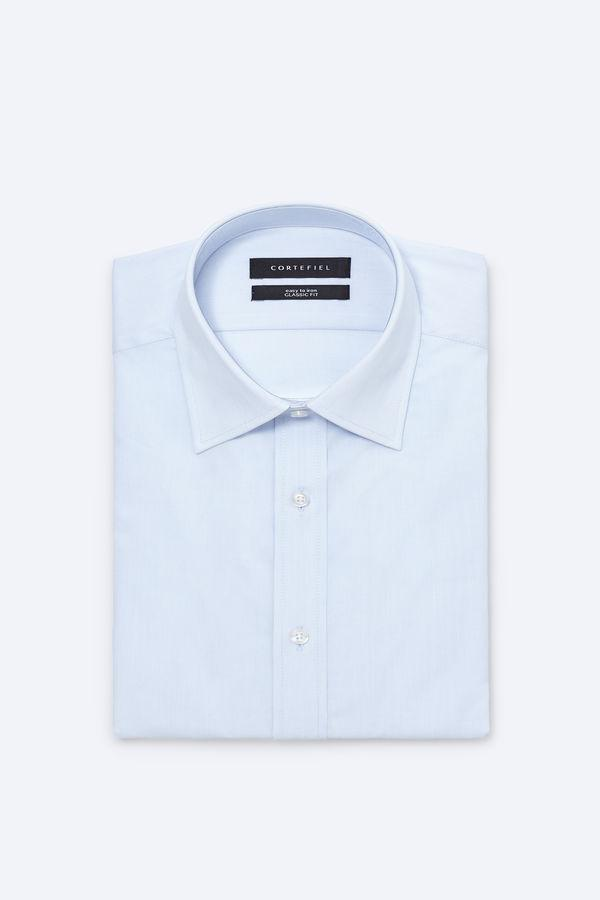teeshirt: (98, 200, 516, 781)
